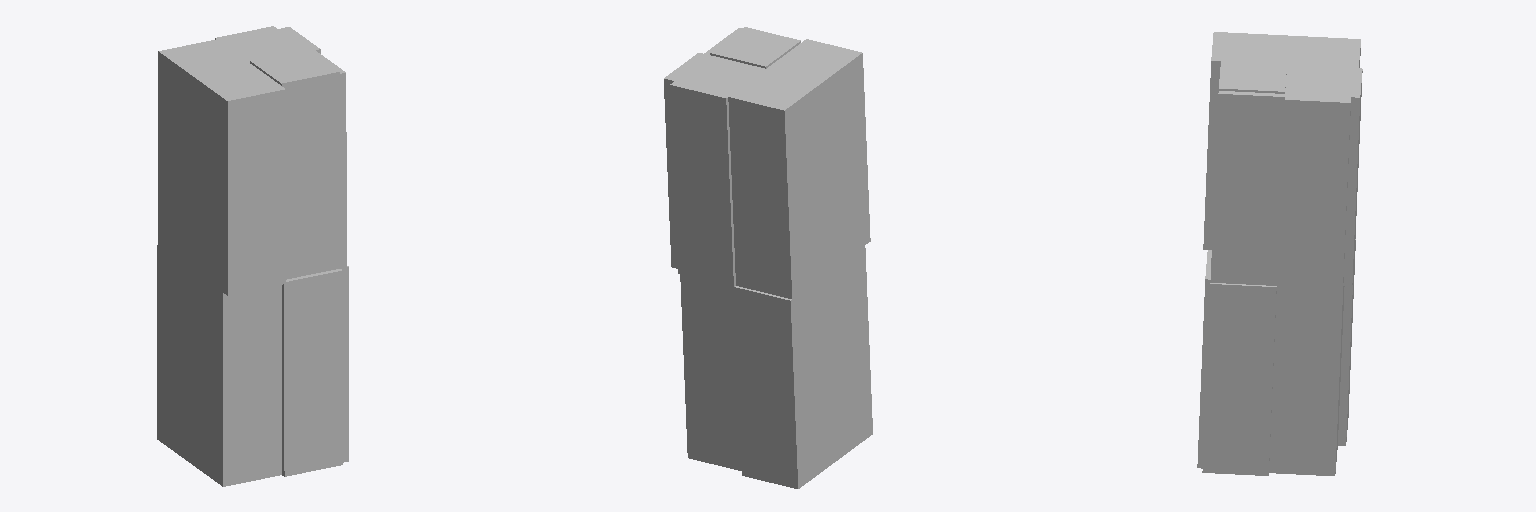
Rendered from pillar_6.obj.
The picture shows the model from 3 angles: view 1: azimuth 30°, elevation 25°; view 2: azimuth 150°, elevation 25°; view 3: azimuth 270°, elevation 25°; orthographic projection.
Visible parts, largest first — view 1: Cube.003_Cube.004; view 2: Cube.003_Cube.004; view 3: Cube.003_Cube.004.
Boxes of the visible parts, <box> form: Cube.003_Cube.004: <box>157,26,348,486</box>; Cube.003_Cube.004: <box>664,27,872,488</box>; Cube.003_Cube.004: <box>1197,32,1362,475</box>.
Size of the model in its own units: 0.4908 by 1.33 by 0.5099.